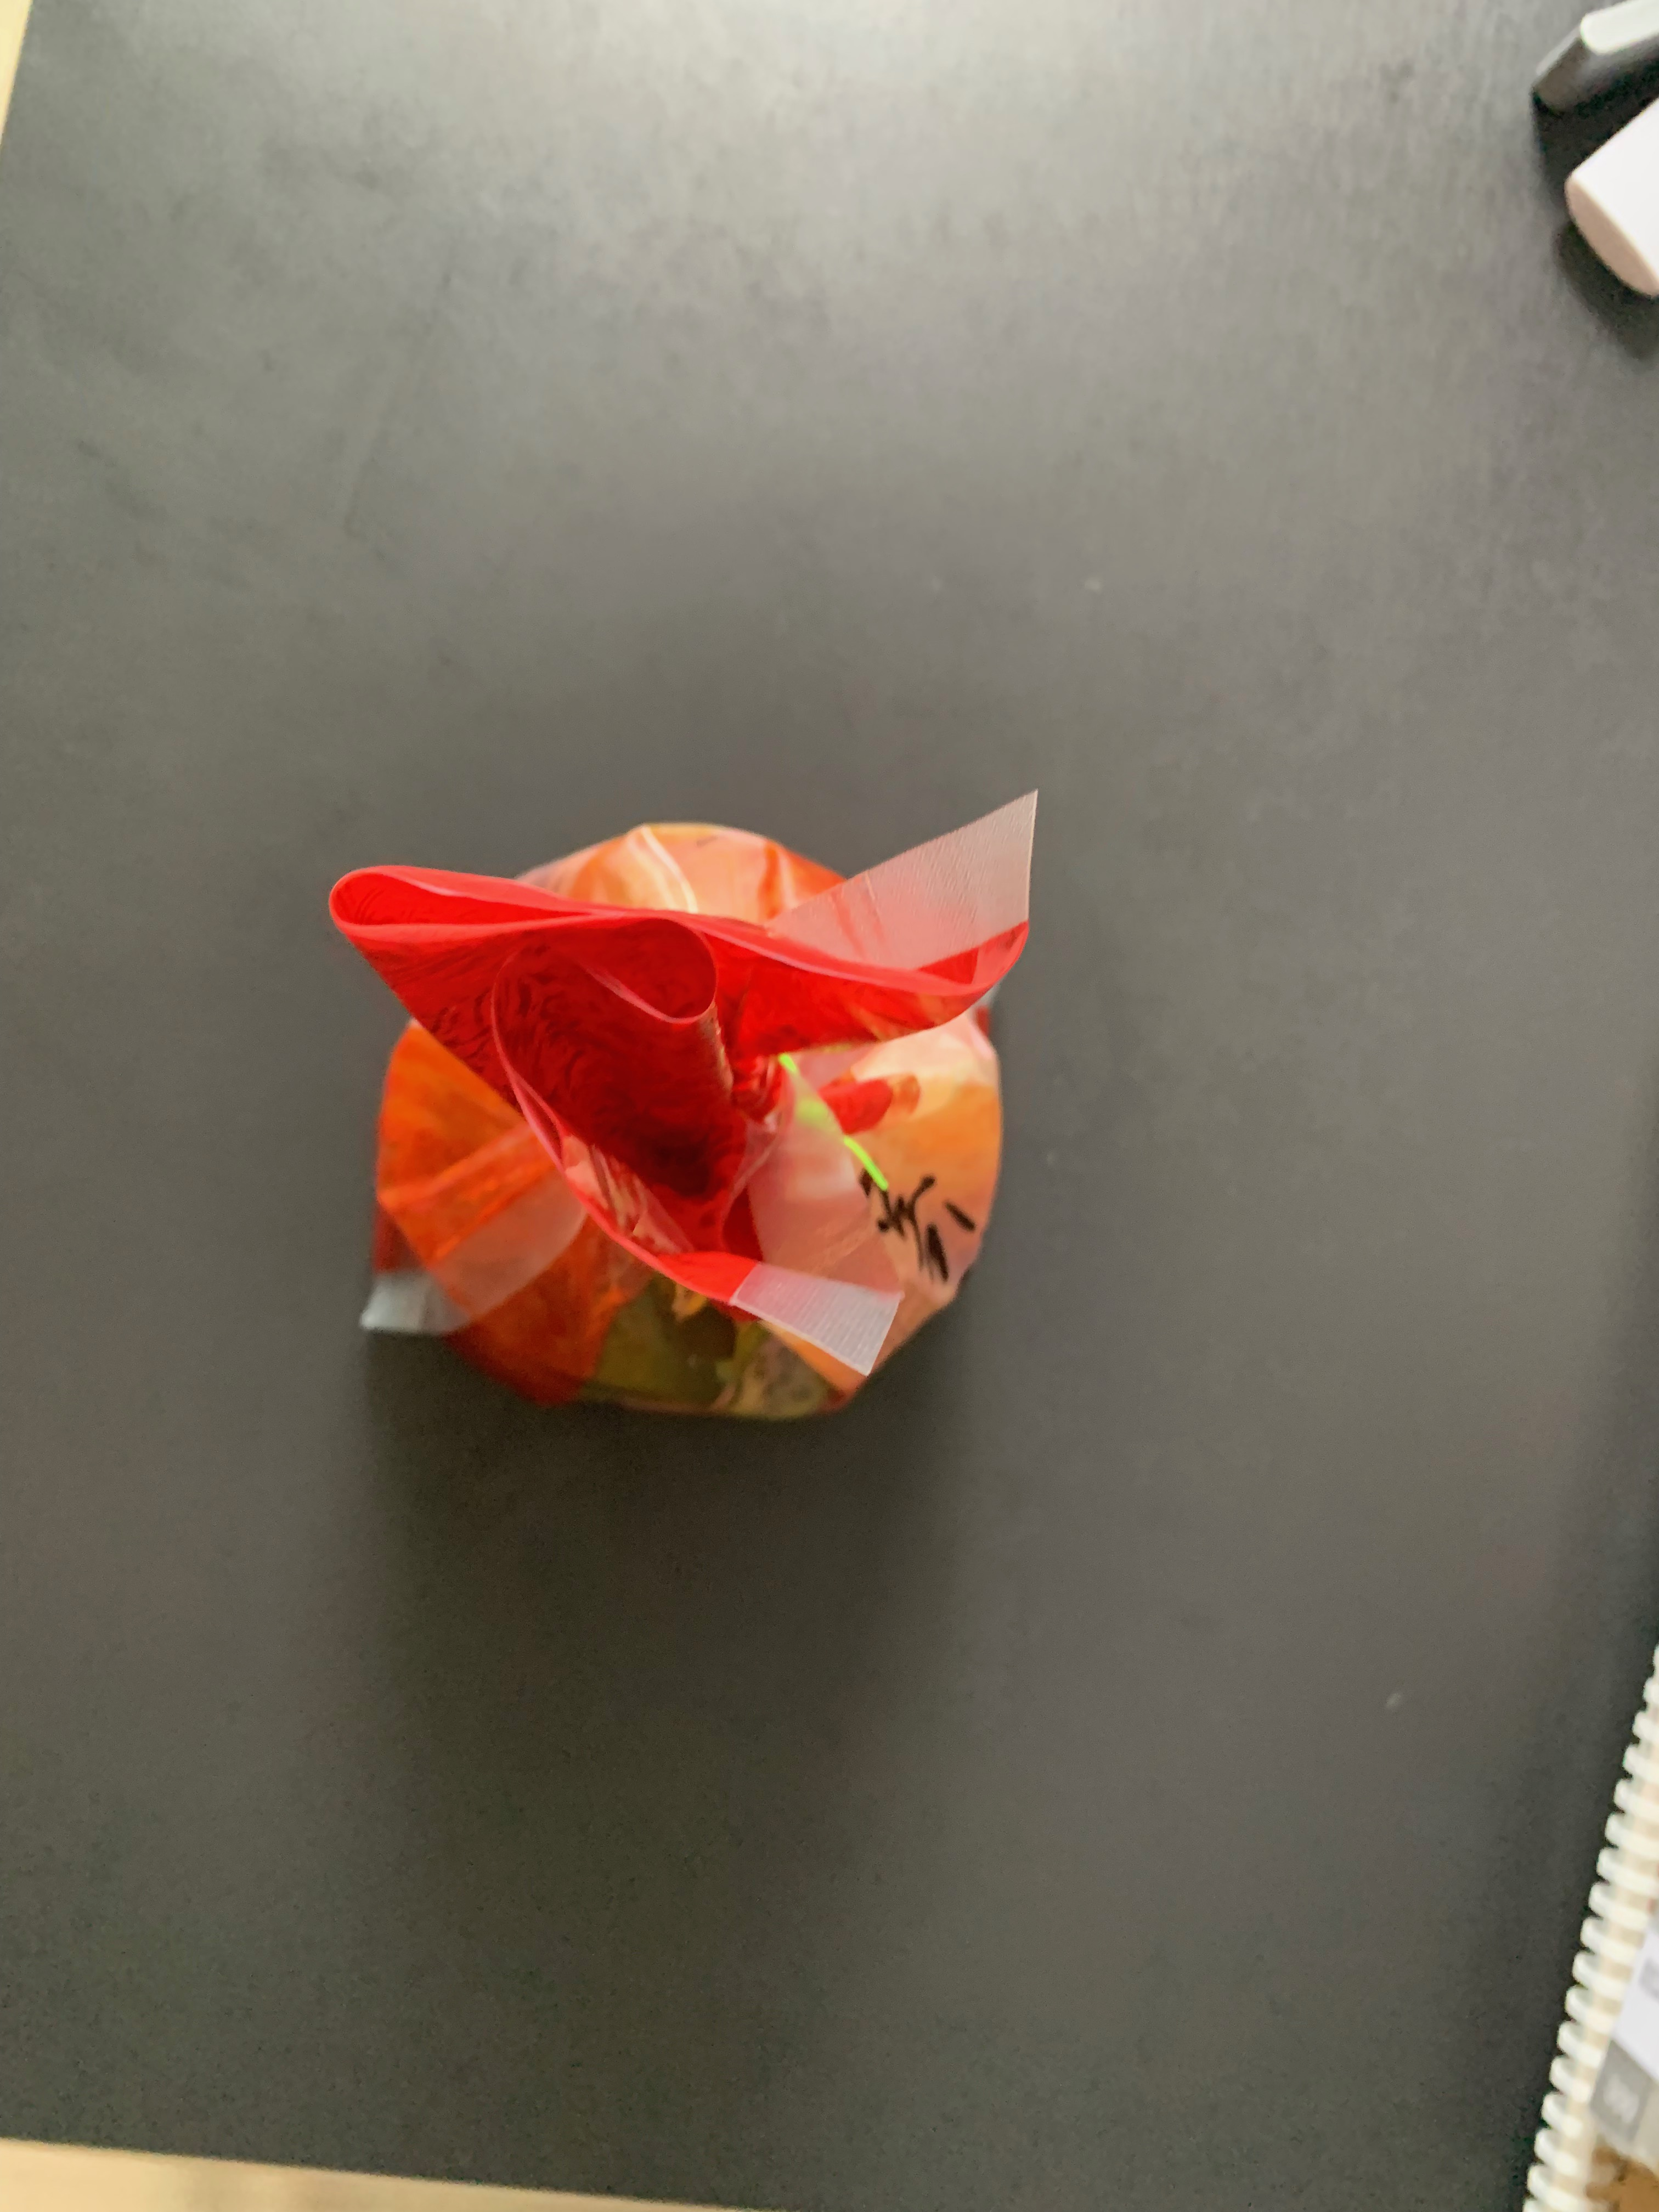kimchi: (322, 819, 1006, 1407)
